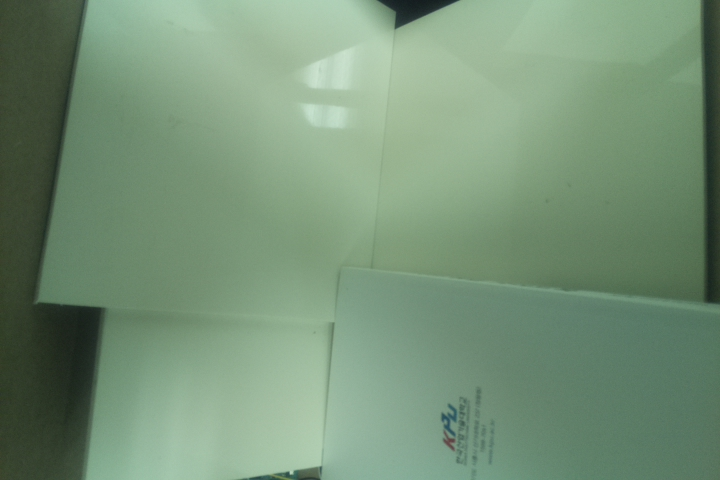book: (318, 263, 717, 480)
